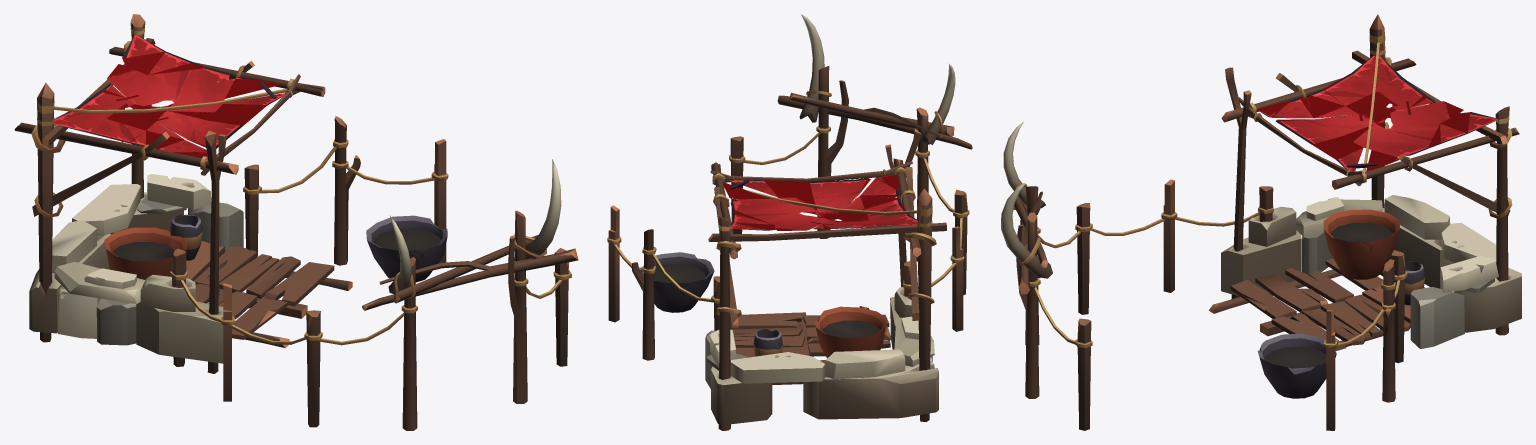
Rendered from Camp_1A.fbx.
3 renders of one model, left to right at view 1: azimuth 30°, elevation 25°; view 2: azimuth 150°, elevation 25°; view 3: azimuth 270°, elevation 25°, orthographic. The views are drawn at different scales.
Visible parts, largest first — view 1: Camp_1A; view 2: Camp_1A; view 3: Camp_1A.
Boxes of the visible parts, x1,y1,x2,y2 form: Camp_1A: (14, 14, 578, 430); Camp_1A: (607, 14, 972, 430); Camp_1A: (1001, 14, 1521, 430).
Bounding box in the file's own units: 9.09 × 5.73 × 11.
